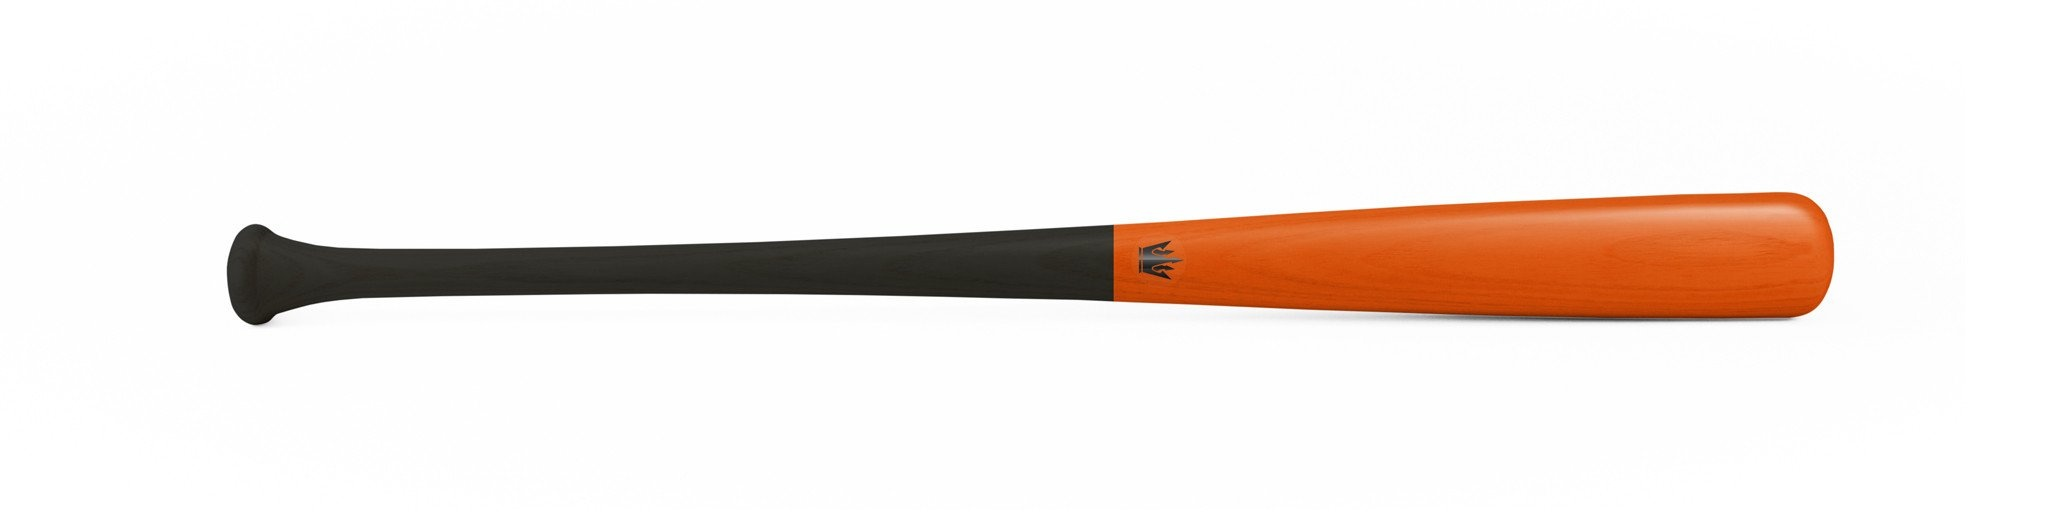bita: (231, 178, 1832, 333)
